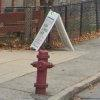a fire hydrant: (34, 51, 52, 91)
